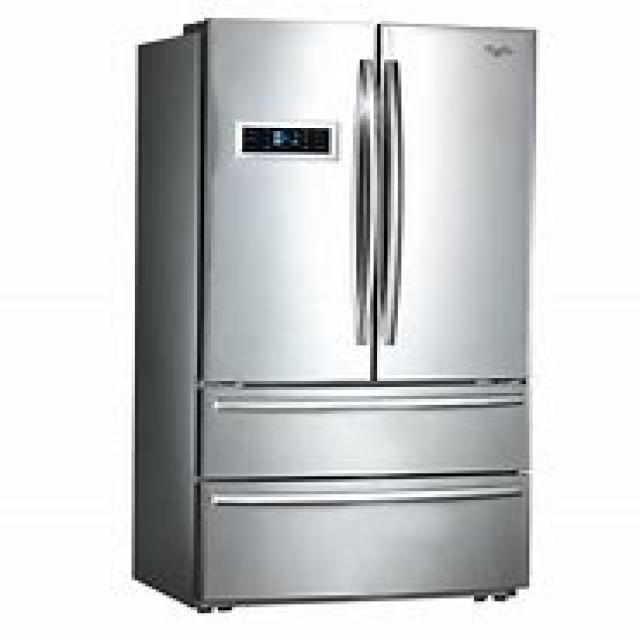fridge: (132, 15, 536, 610)
